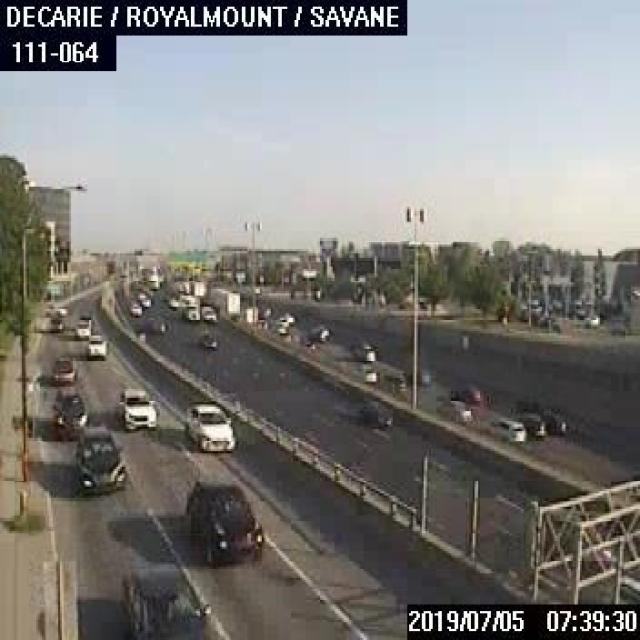vehicle: (182, 477, 264, 567), (118, 560, 211, 638), (178, 400, 238, 456), (71, 429, 124, 490), (52, 390, 87, 440), (118, 387, 158, 429), (485, 414, 526, 442), (355, 398, 389, 427), (438, 398, 472, 424), (540, 406, 567, 432), (51, 356, 76, 382), (177, 292, 198, 320), (353, 338, 378, 359), (85, 332, 105, 356), (200, 333, 219, 349), (73, 318, 88, 337), (201, 304, 216, 322), (49, 316, 66, 329), (275, 322, 287, 336)
